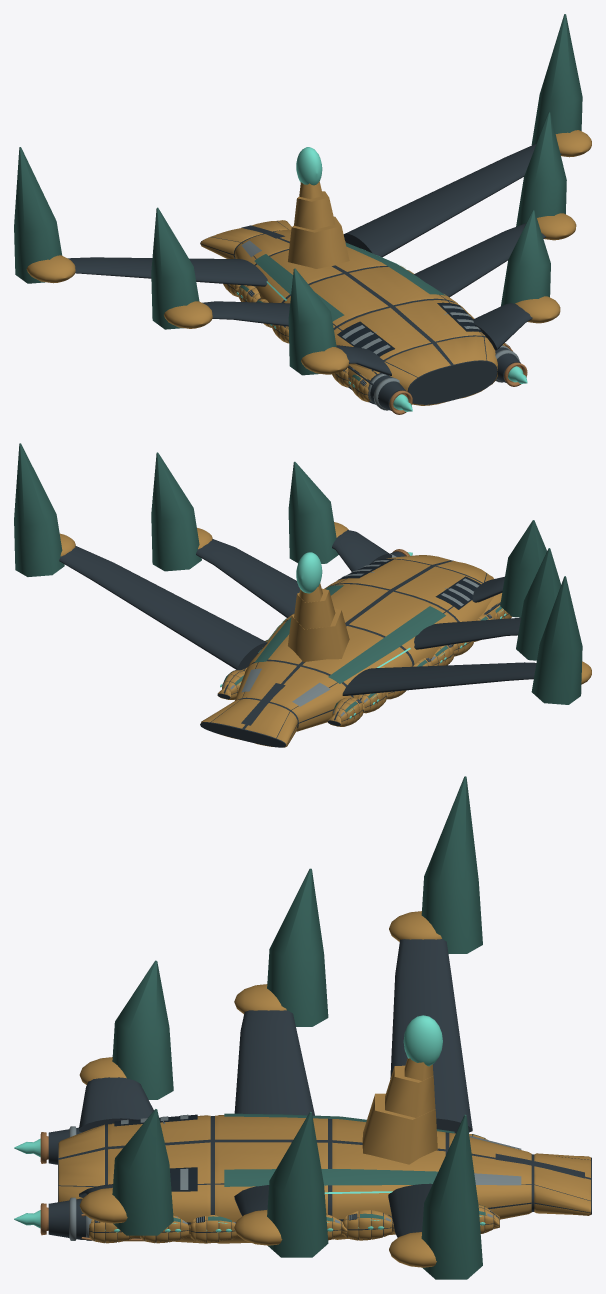
Rendered from sovereign.glb.
3 views of the same model, one above another, from view 1: azimuth 30°, elevation 25°; view 2: azimuth 150°, elevation 25°; view 3: azimuth 270°, elevation 25° (orthographic). The views are drawn at different scales.
Visible parts, largest first — view 1: sovereign; view 2: sovereign; view 3: sovereign.
Part boxes in pixels (x1=…): sovereign: x1=14, y1=14, x2=591, y2=414; sovereign: x1=14, y1=443, x2=591, y2=747; sovereign: x1=14, y1=776, x2=591, y2=1279.
Bounding box in the file's own units: 117 × 42.81 × 82.24.
